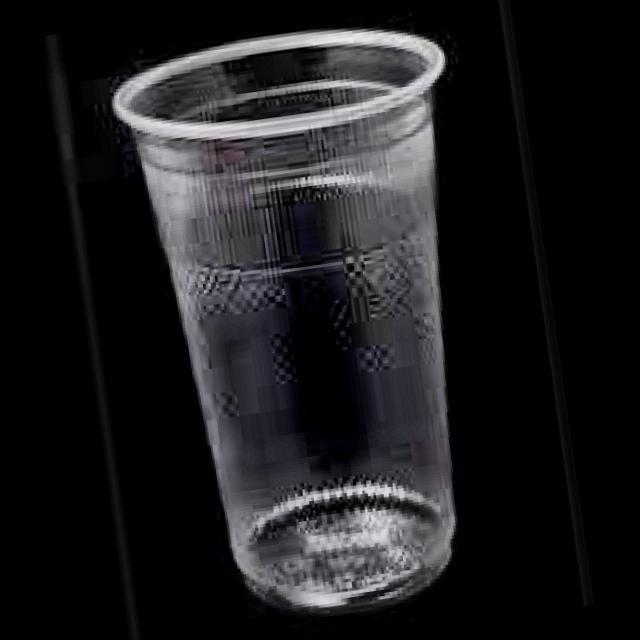plastic cup: (113, 30, 456, 613)
